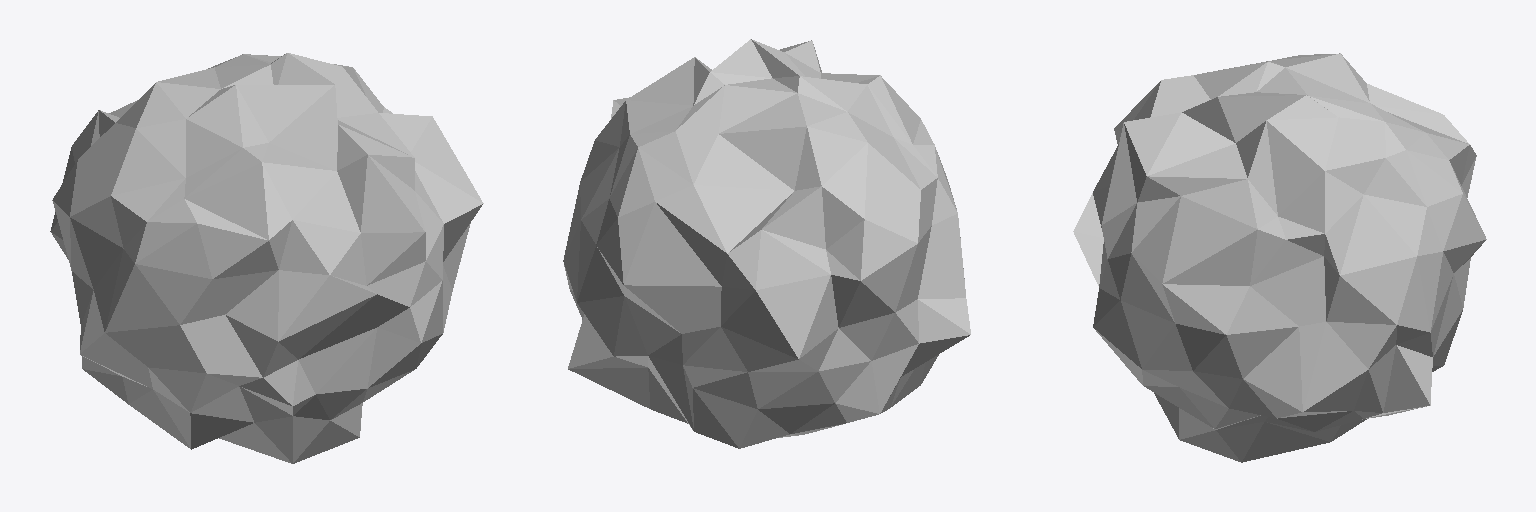
The model's file is fire_000040.obj.
3 views of the same model, side by side, from view 1: azimuth 30°, elevation 25°; view 2: azimuth 150°, elevation 25°; view 3: azimuth 270°, elevation 25° (orthographic).
Parts seen in each view (by area): view 1: Icosphere; view 2: Icosphere; view 3: Icosphere.
Part boxes in pixels (x1,y1,x2,y2): Icosphere: (50,53,483,463); Icosphere: (563,39,970,448); Icosphere: (1073,53,1486,462).
Bounding box in the file's own units: 1.11 × 1.02 × 1.05.